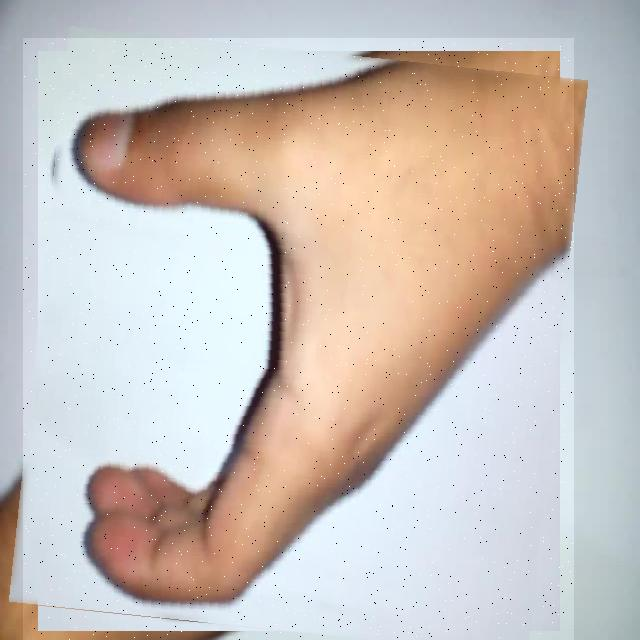C: (23, 38, 574, 640)
